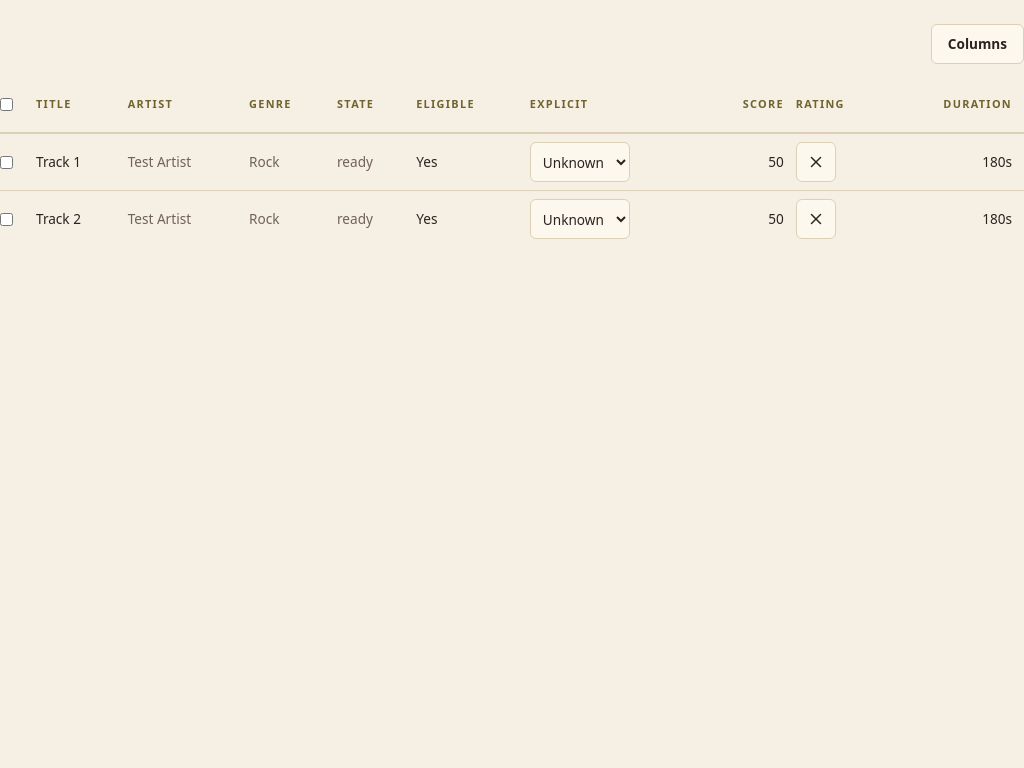
Feature: Catalog selection toolbar and Libraries tab › Scenario: selection-mode reassign › surfaces an out-of-scope move in the summary toast without a second confirm
Click the checkbox named "Select Track 1" at x=6, y=162, box [0,156,13,168]
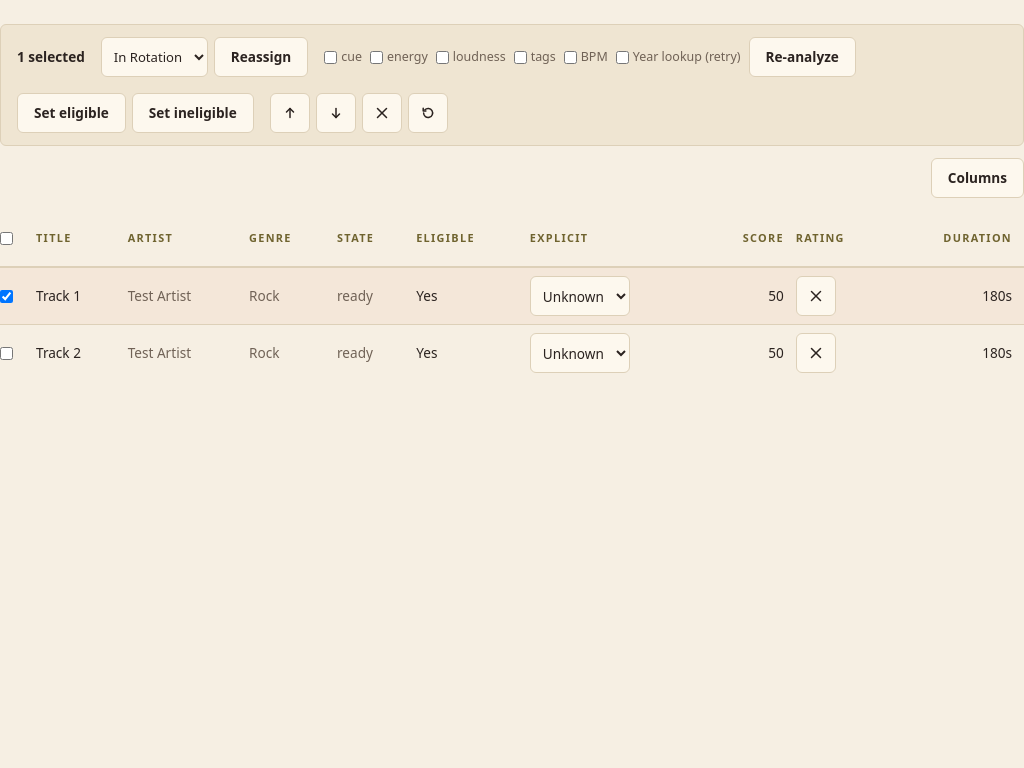
Select "Archive" in the dropdown named "Destination library" at x=154, y=57, box [101,37,208,77]
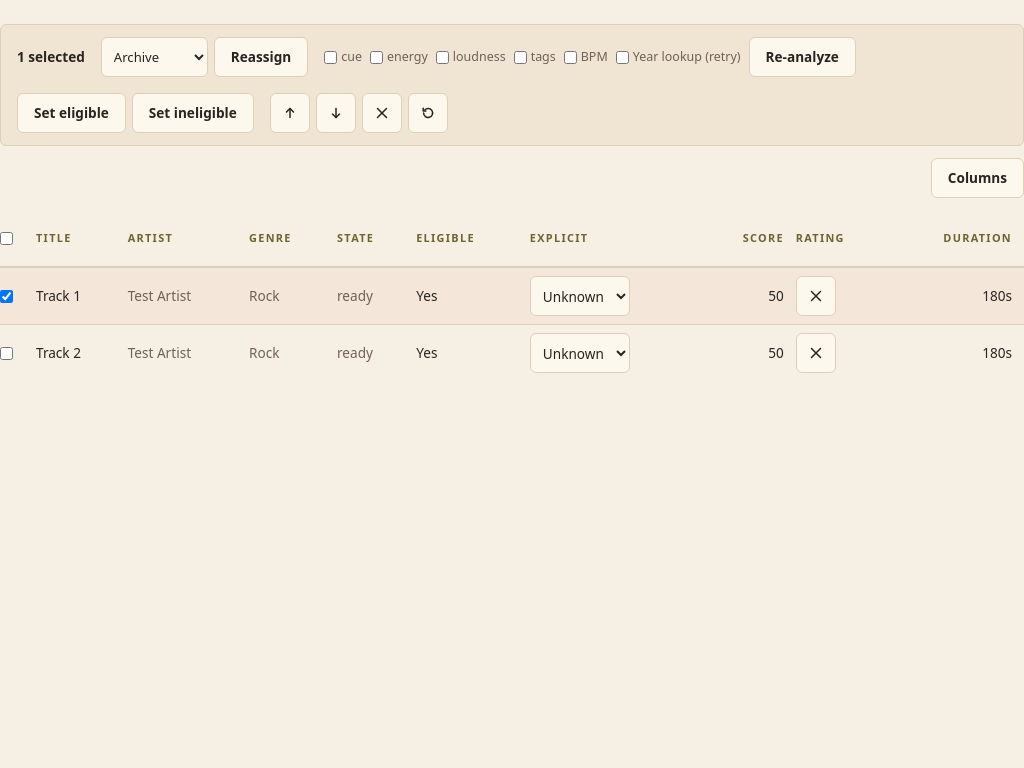
Click the button "Reassign" at x=261, y=57, box [214,37,308,77]
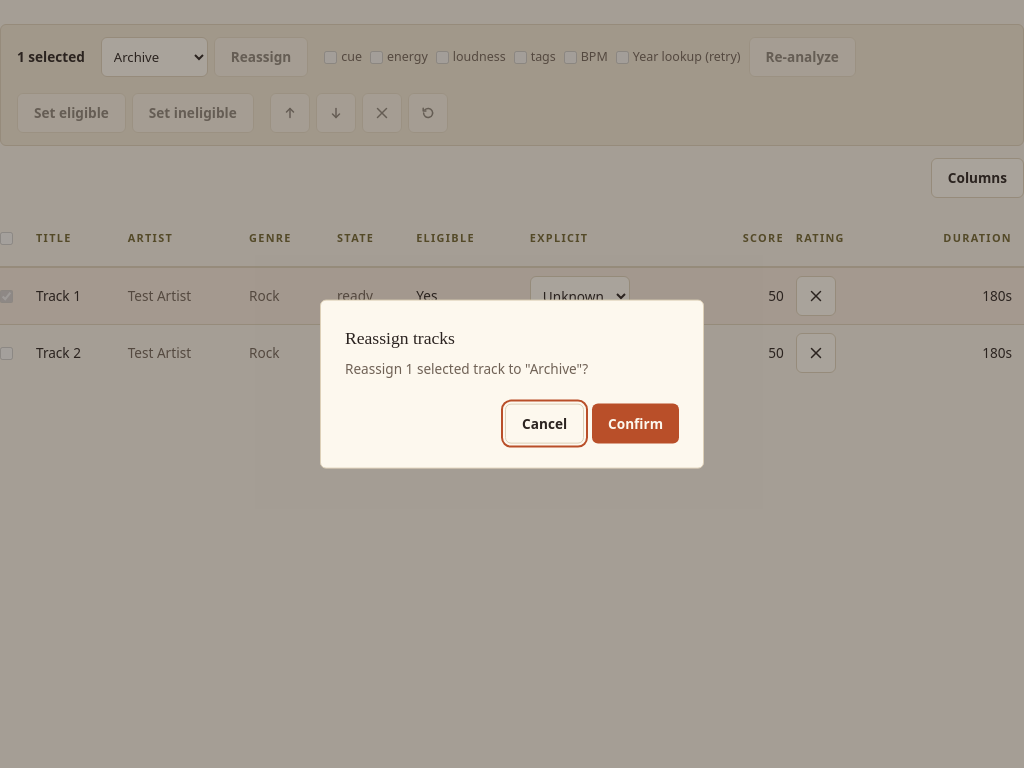
Click the button "Confirm" at x=636, y=423, box [592,403,679,443]
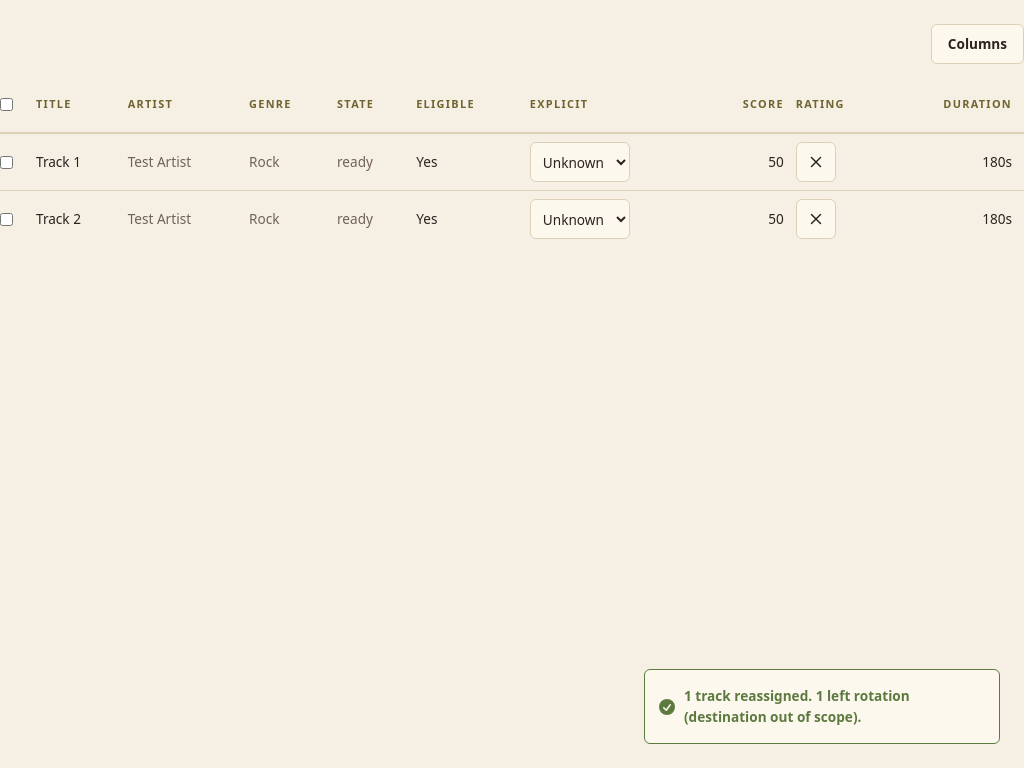
Now the text "1 track reassigned. 1 left rotation (destination out of scope)." is shown, box [684,686,910,726]
Now the dialog is gone
